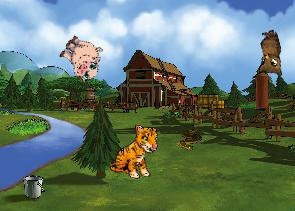owl: (248, 28, 287, 80)
pig: (53, 30, 109, 85)
tiger: (109, 122, 160, 181)
